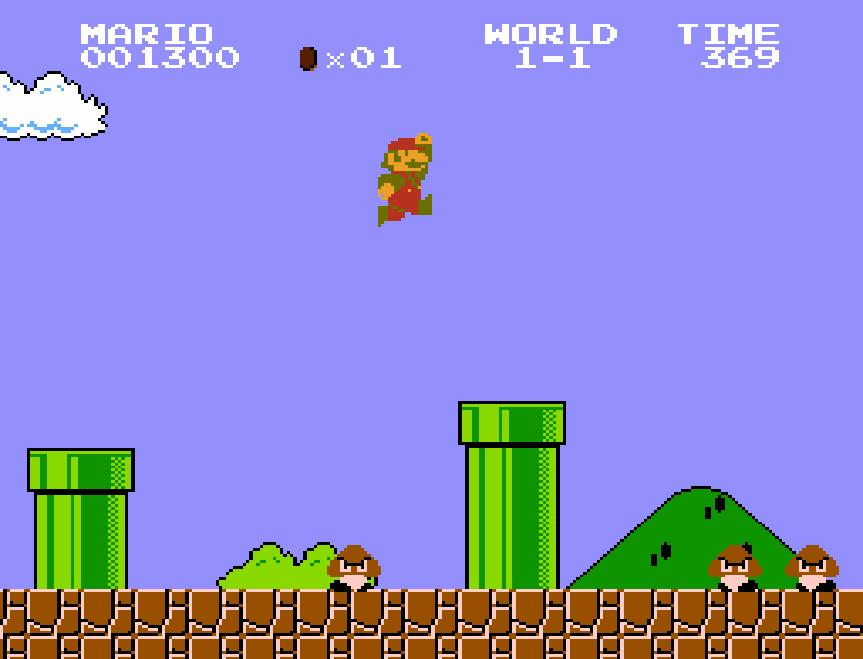big_mario: (376, 130, 434, 228)
